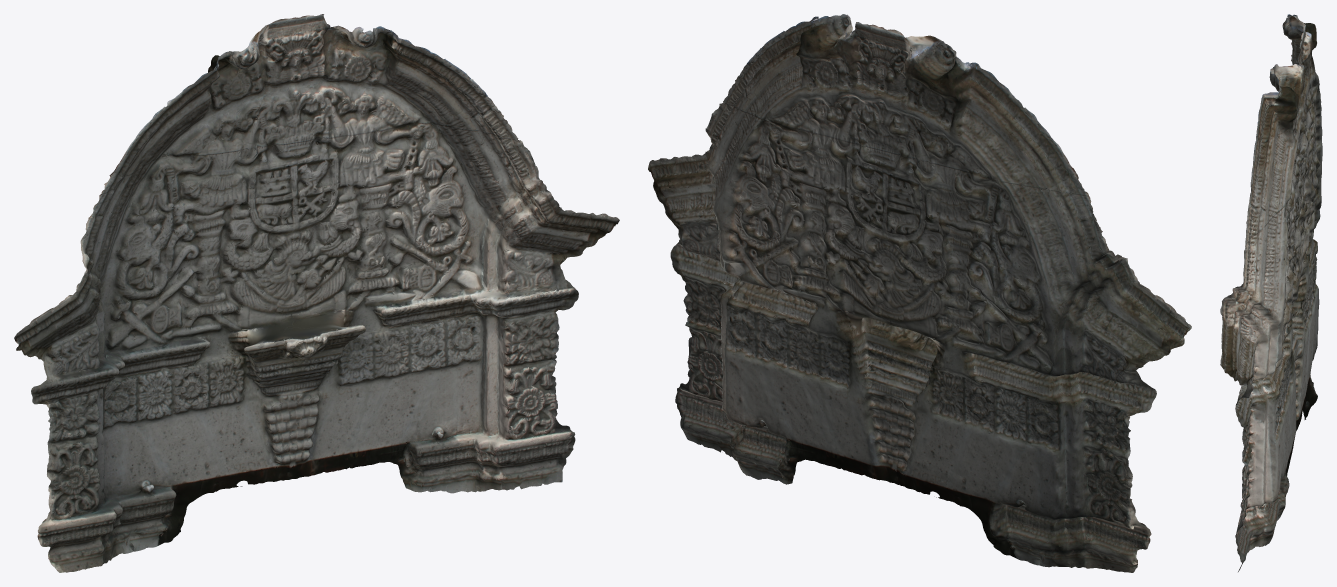
The model's file is barroco_andino.glb.
3 views of the same model, side by side, from view 1: azimuth 30°, elevation 25°; view 2: azimuth 150°, elevation 25°; view 3: azimuth 270°, elevation 25° (orthographic). The views are drawn at different scales.
Parts seen in each view (by area): view 1: Object_2, Object_3; view 2: Object_2, Object_3; view 3: Object_2, Object_3.
Boxes of the visible parts, bbox=[...] form: Object_2: bbox=[14, 14, 619, 572]; Object_3: bbox=[46, 139, 570, 488]; Object_2: bbox=[648, 14, 1191, 572]; Object_3: bbox=[681, 142, 1143, 497]; Object_2: bbox=[1220, 14, 1322, 571]; Object_3: bbox=[1237, 120, 1321, 467].
Bounding box in the file's own units: 4.53 × 3.77 × 0.7888.
Materials: 1 (1 with a texture image).
